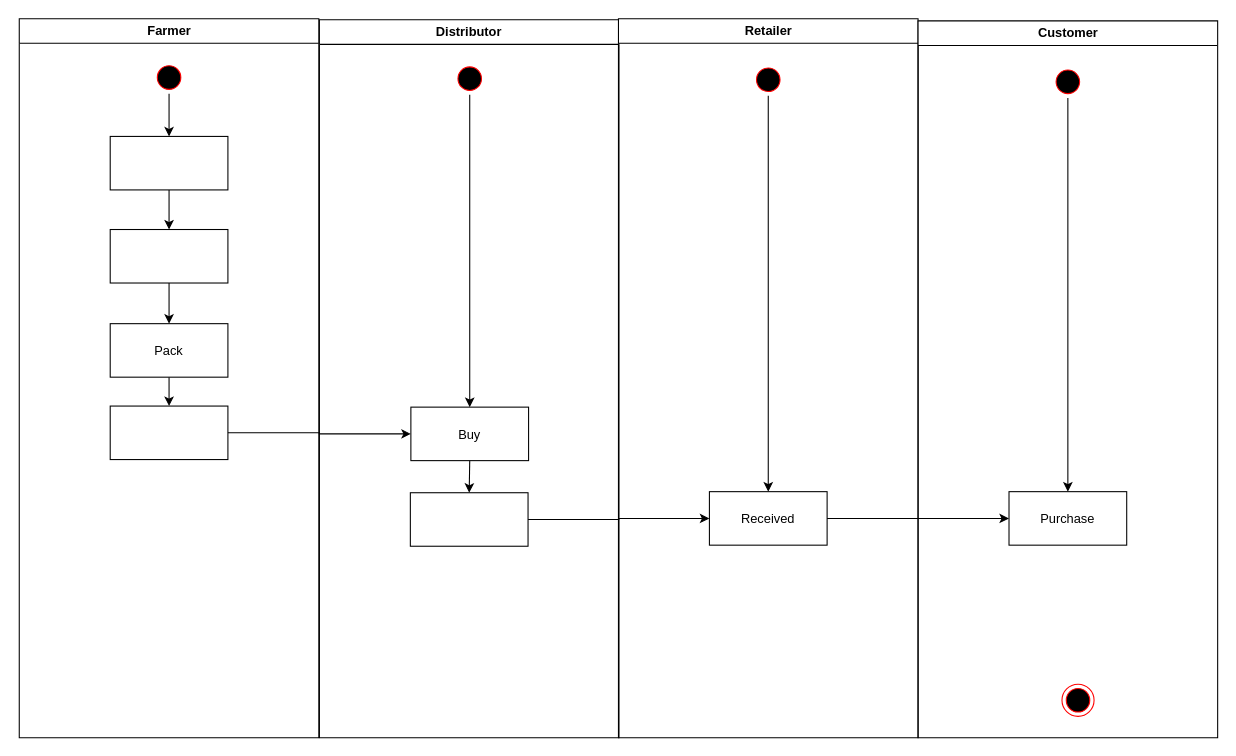
Image size: 1236x756. Some labels were removed from this diagram. Each missing label, with the centre of its shape:
Harvest: the point at 168,162
Proccess: the point at 168,255
Sell: the point at 168,432
Ship: the point at 468,519
